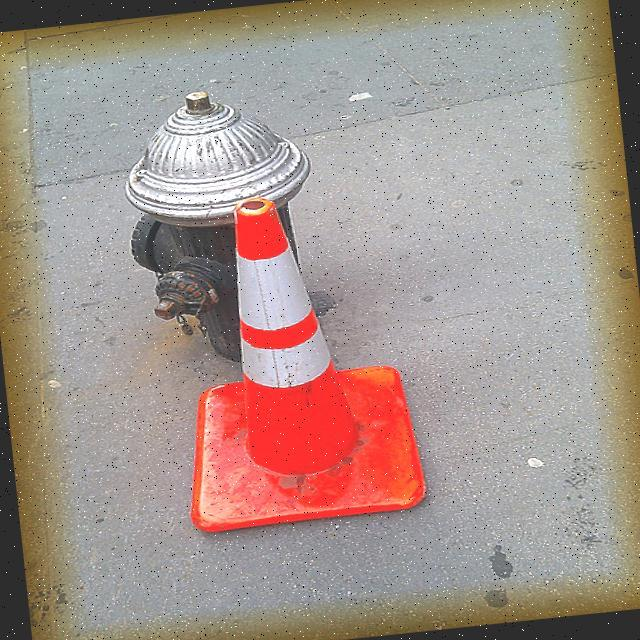fire_hydrant: (113, 79, 329, 371)
